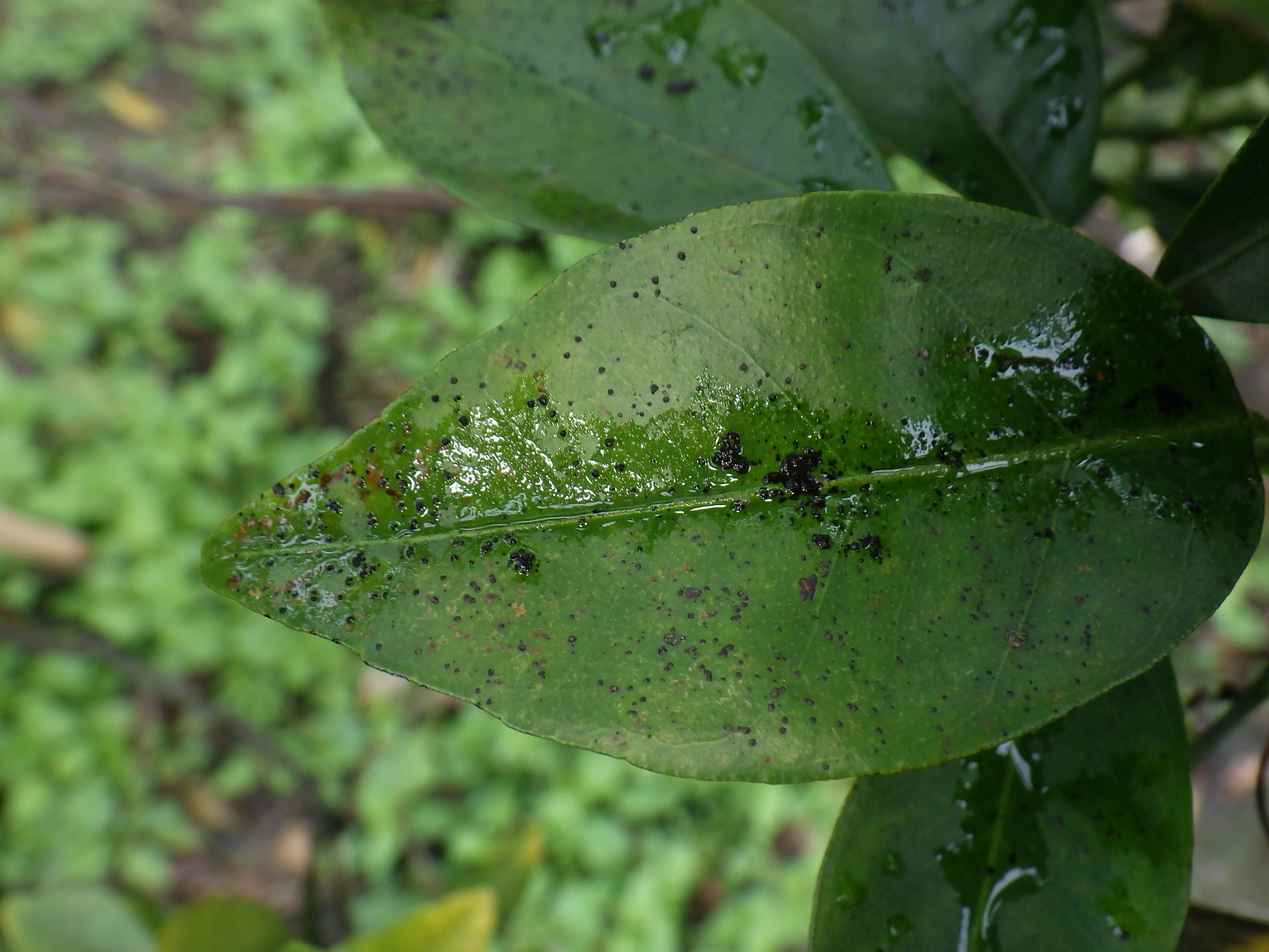Oily_Spot: (203, 193, 1261, 782)
